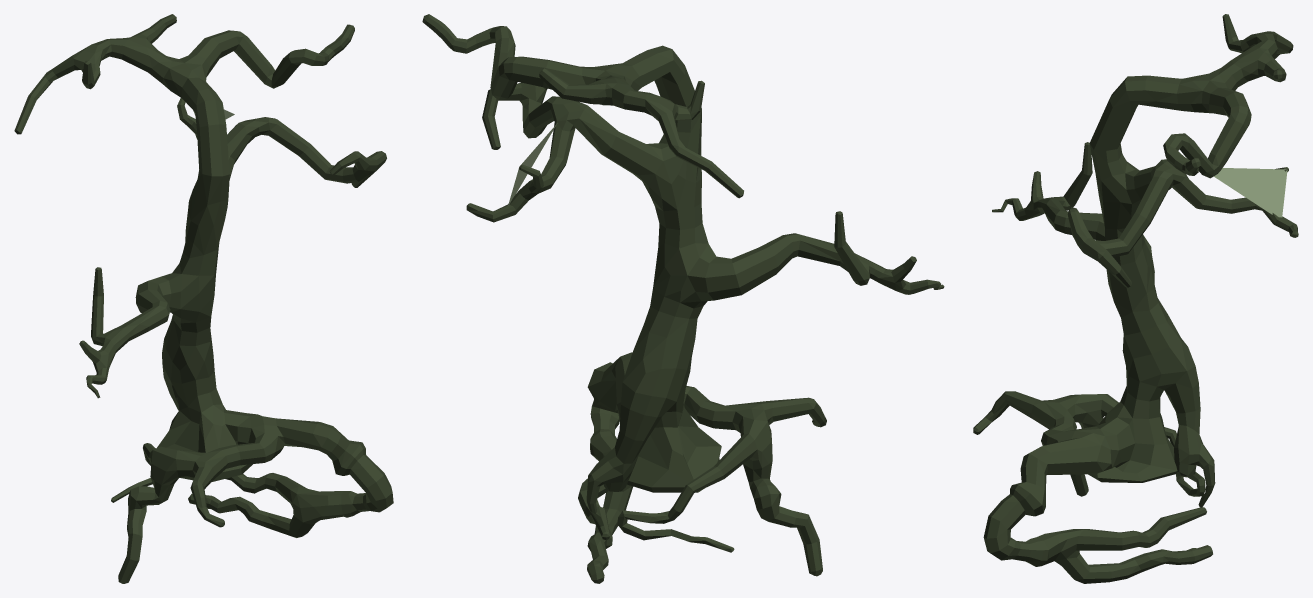
Rendered from EA_Swamp_tree6.006.glb.
3 views of the same model, side by side, from view 1: azimuth 30°, elevation 25°; view 2: azimuth 150°, elevation 25°; view 3: azimuth 270°, elevation 25° (orthographic). The views are drawn at different scales.
Visible parts, largest first — view 1: EA_Swamp_tree6.006; view 2: EA_Swamp_tree6.006; view 3: EA_Swamp_tree6.006.
Part boxes in pixels (bbox=[...]): EA_Swamp_tree6.006: bbox=[14, 14, 393, 583]; EA_Swamp_tree6.006: bbox=[422, 14, 944, 583]; EA_Swamp_tree6.006: bbox=[973, 14, 1298, 583].
Bounding box in the file's own units: 7.18 × 9.04 × 5.34.
1 material, 1 textured.
